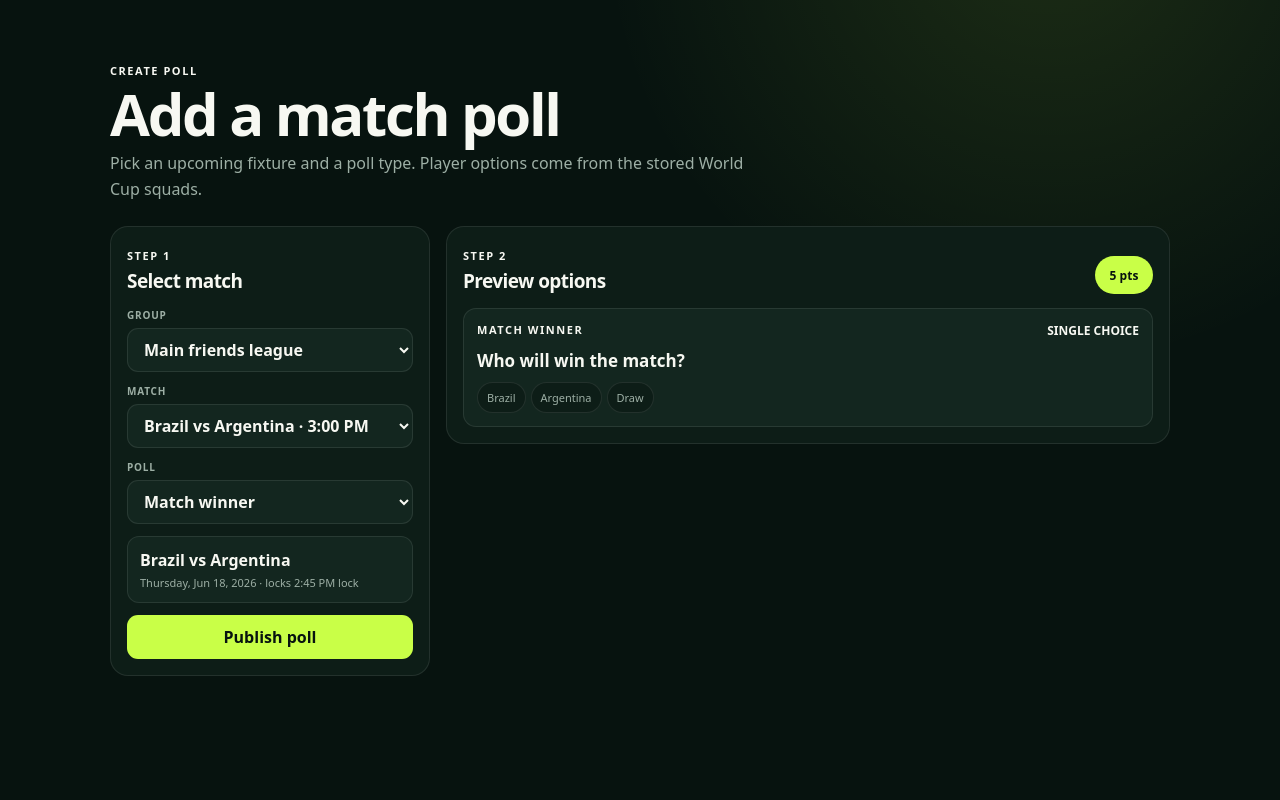
fantasy prediction game › renders exact score and first goal time user poll types
This screenshot has width=1280, height=800.
Select "Exact score" in the dropdown labelled "Poll" at (270, 502), box [127,480,413,524]
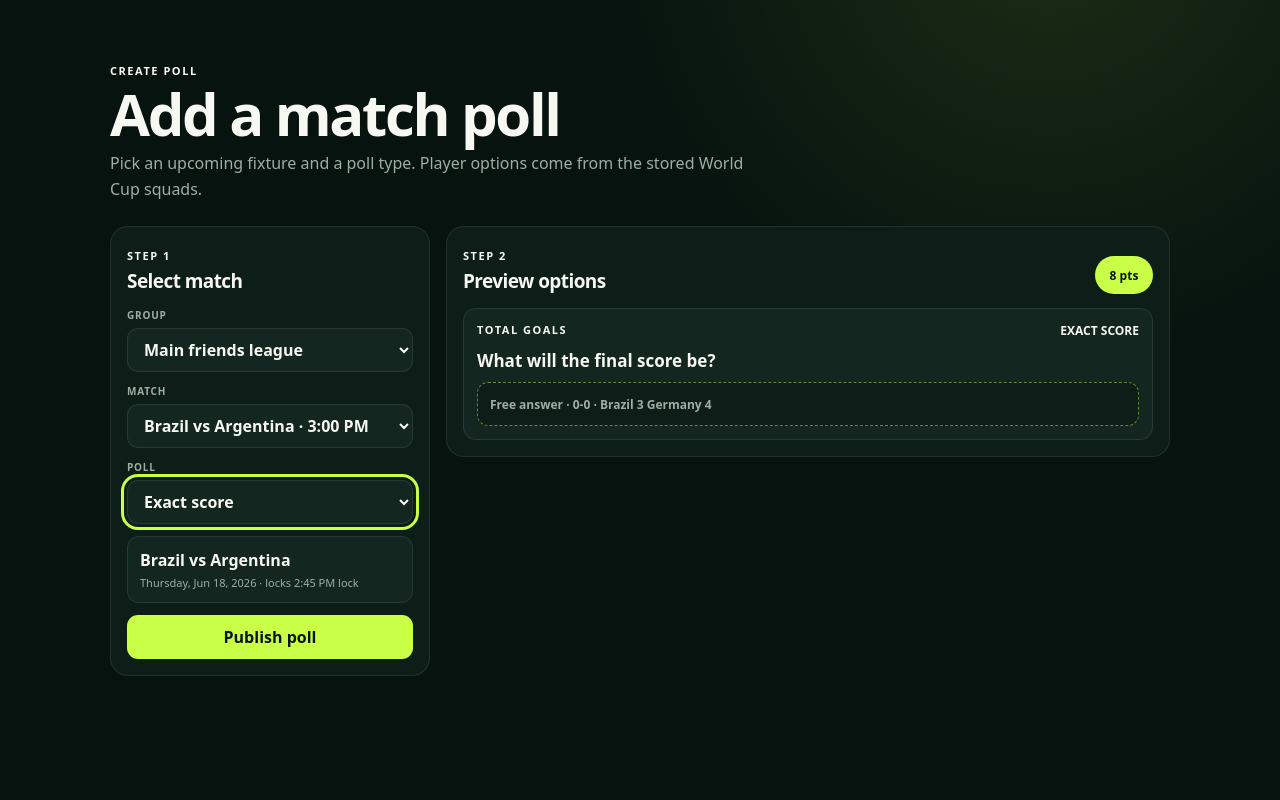
Check: the text "Free answer · 0-0 · Brazil 3 Germany 4" is shown, box [477,382,1139,426]
Select "First goal time" in the dropdown labelled "Poll" at (270, 502), box [127,480,413,524]
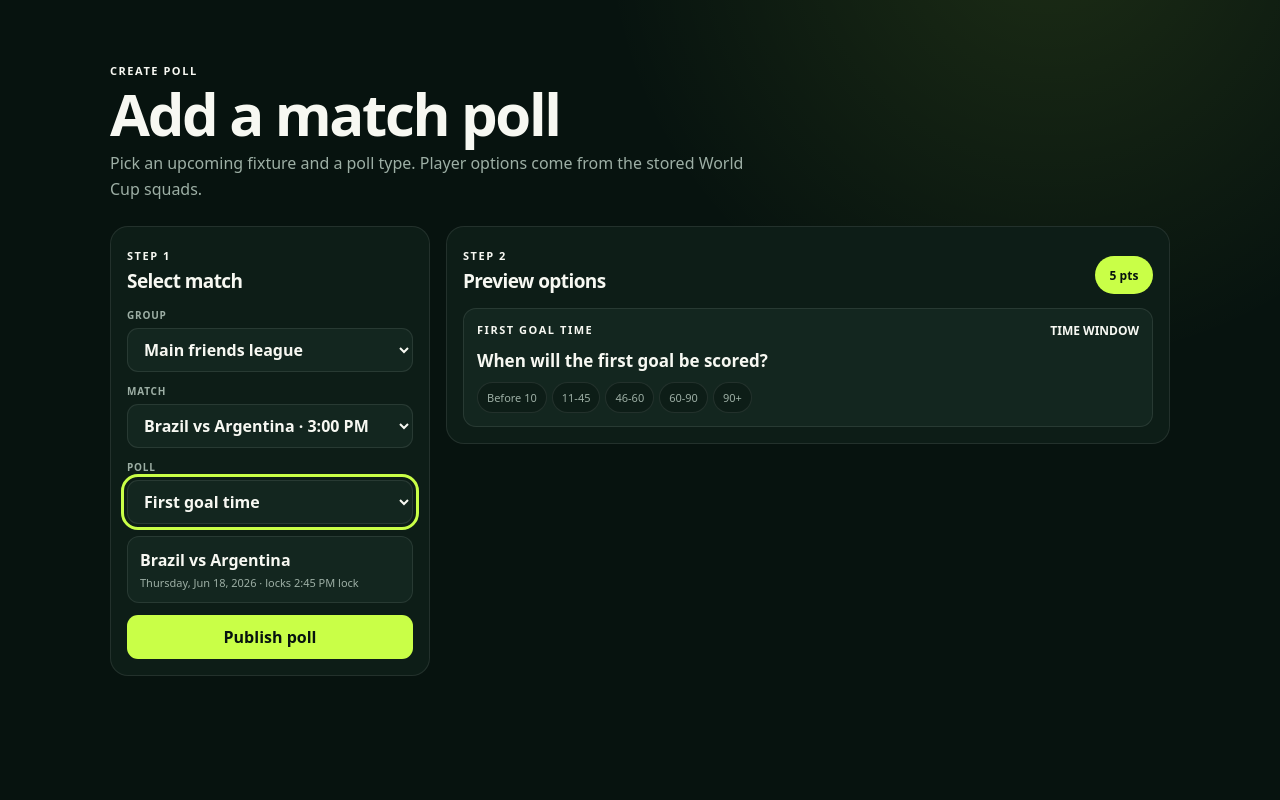
Check: the text "Before 10" is shown, box [477,382,547,413]
Check: the text "90+" is shown, box [713,382,752,413]
